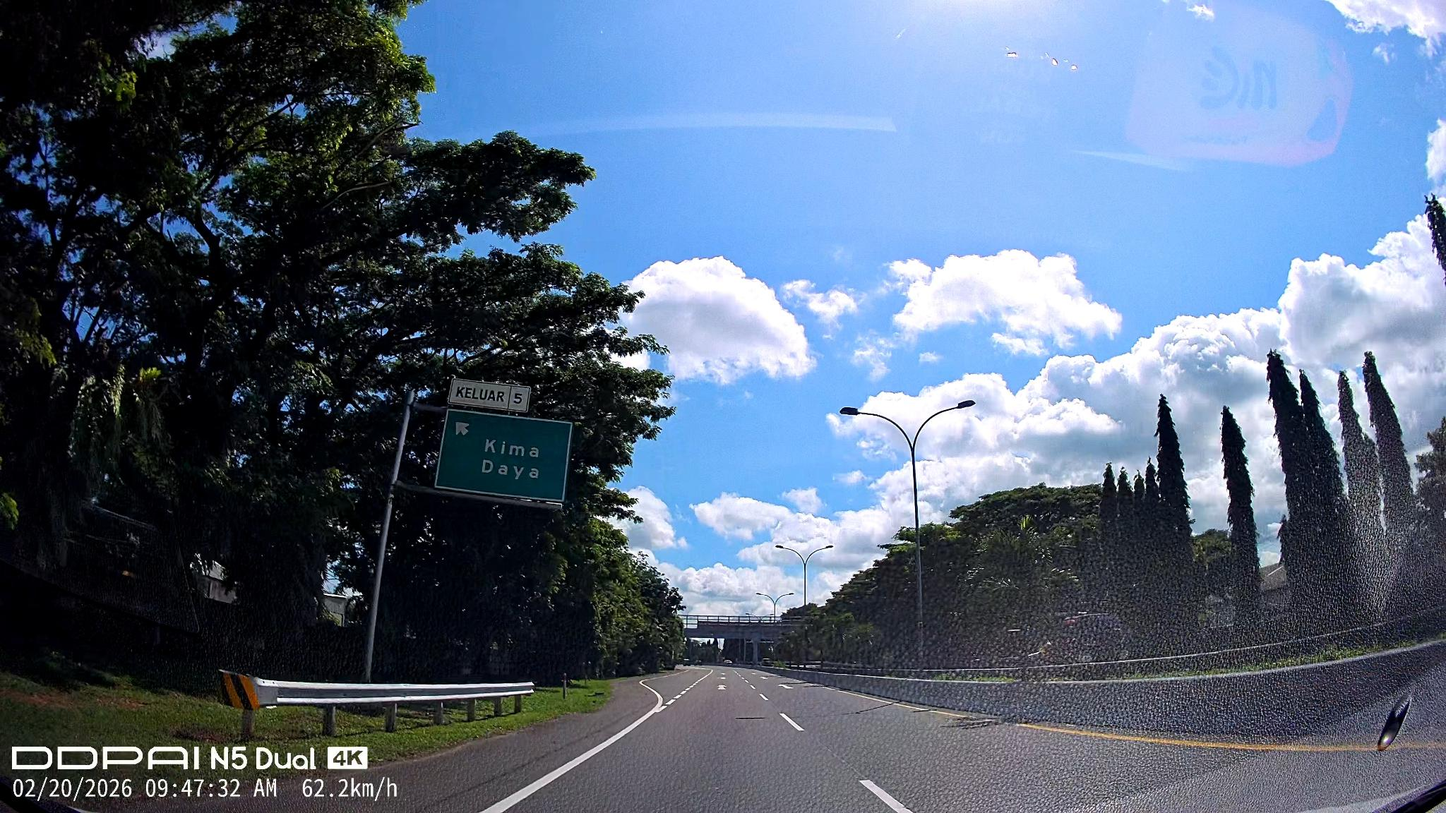rambu_teks: (434, 406, 574, 503)
